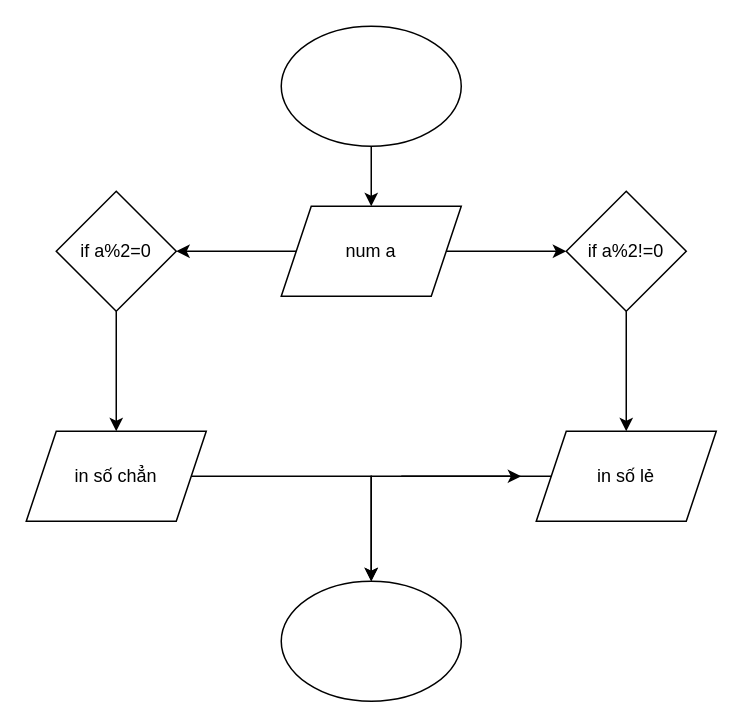
Image size: 743x728. Some labels were removed from this diagram. Here are the shapes that lost their labels. From the top down, the box of each, then its label:
(280, 25, 461, 146): start
(280, 580, 461, 701): end
